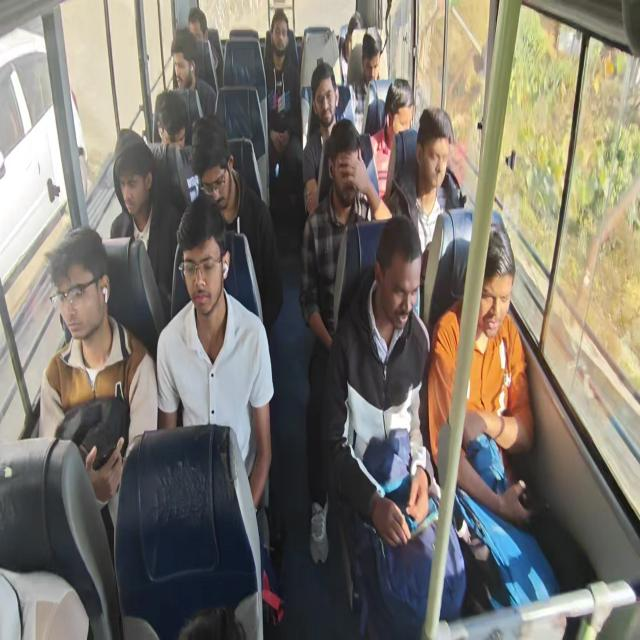person: (47, 238, 110, 340), (470, 220, 518, 342), (377, 232, 422, 331), (179, 220, 226, 314), (418, 117, 461, 206), (194, 131, 232, 205), (109, 139, 148, 206), (149, 89, 187, 155), (386, 81, 416, 146), (333, 137, 360, 206), (361, 40, 388, 99), (170, 36, 199, 88), (269, 7, 292, 64), (345, 14, 369, 62), (186, 7, 212, 51), (313, 76, 336, 124)
